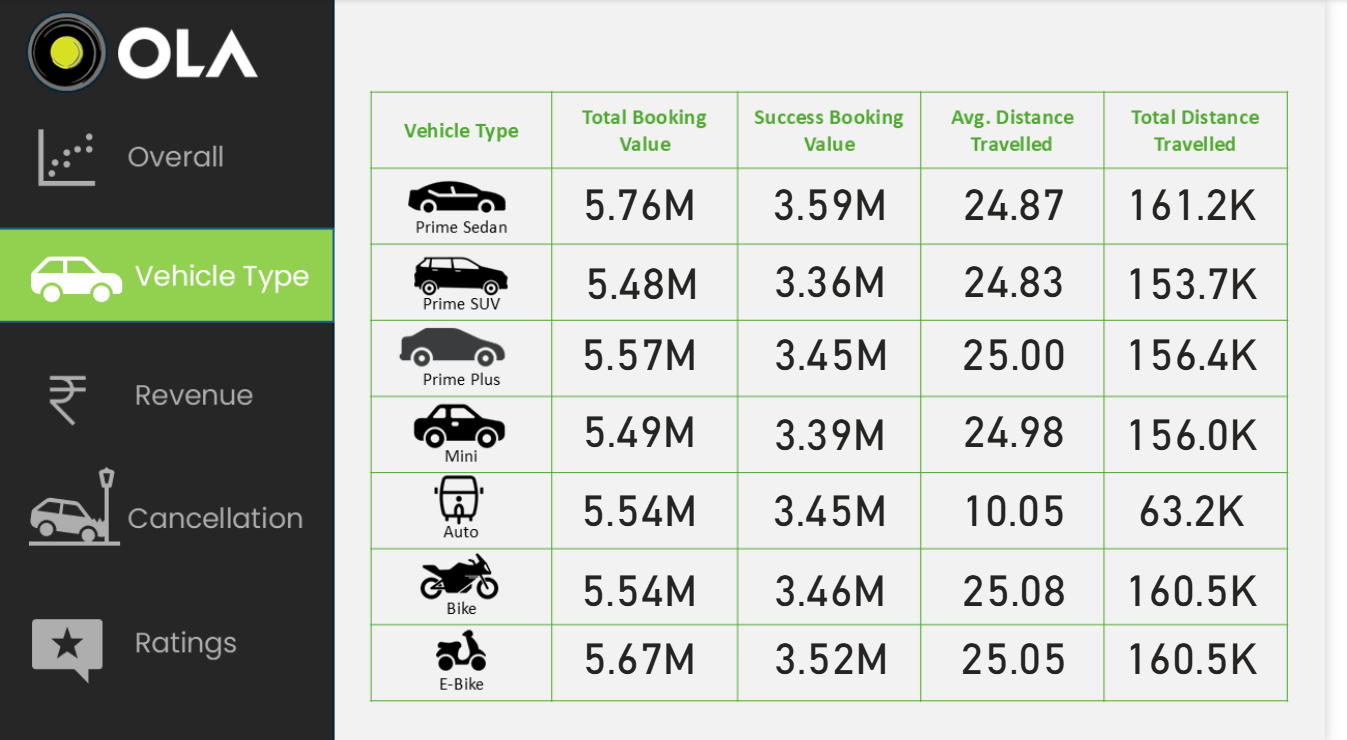

What the dashboard file says about the page in this screenshot:
{"tool":"powerbi","page":{"name":"Vechicle Type","canvas":[1280,720],"ordinal":1},"visuals":[{"type":"actionButton","box":[0,109.8,323.3,90.5],"z":0},{"type":"actionButton","box":[0,339,323.3,90.5],"z":1000},{"type":"actionButton","box":[0,447.6,323.3,90.5],"z":2000},{"type":"actionButton","box":[0,580.3,323.3,90.5],"z":3000},{"type":"card","fields":{"Values":["Sum(Bookings.Booking_Value)"]},"box":[543.4,155.1,149.6,76.8],"z":4000},{"type":"card","fields":{"Values":["Sum(Bookings.Booking_Value)"]},"box":[543.4,374.6,149.6,76.8],"z":5000},{"type":"card","fields":{"Values":["Sum(Bookings.Booking_Value)"]},"box":[543.4,451.5,149.6,76.8],"z":6000},{"type":"card","fields":{"Values":["Sum(Bookings.Booking_Value)"]},"box":[543.4,528.3,149.6,76.8],"z":7000},{"type":"card","fields":{"Values":["Sum(Bookings.Booking_Value)"]},"box":[543.4,594.2,149.6,76.8],"z":8000},{"type":"card","fields":{"Values":["Sum(Bookings.Booking_Value)"]},"box":[544.8,231.9,149.6,76.8],"z":9000},{"type":"card","fields":{"Values":["Sum(Bookings.Booking_Value)"]},"box":[543.4,300.5,149.6,76.8],"z":10000},{"type":"card","fields":{"Values":["Sum(Bookings.Booking_Value)"]},"box":[727.3,155.1,149.6,76.8],"z":11000},{"type":"card","fields":{"Values":["Sum(Bookings.Booking_Value)"]},"box":[727.3,230.5,149.6,76.8],"z":12000},{"type":"card","fields":{"Values":["Sum(Bookings.Booking_Value)"]},"box":[728.6,300.5,149.6,76.8],"z":13000},{"type":"card","fields":{"Values":["Sum(Bookings.Booking_Value)"]},"box":[727.3,377.4,149.6,76.8],"z":14000},{"type":"card","fields":{"Values":["Sum(Bookings.Booking_Value)"]},"box":[727.3,451.5,149.6,76.8],"z":15000},{"type":"card","fields":{"Values":["Sum(Bookings.Booking_Value)"]},"box":[727.3,528.3,149.6,76.8],"z":16000},{"type":"card","fields":{"Values":["Sum(Bookings.Booking_Value)"]},"box":[728.6,594.2,149.6,76.8],"z":17000},{"type":"card","fields":{"Values":["Avg(Bookings.Ride_Distance)"]},"box":[904.3,155.1,149.6,76.8],"z":18000},{"type":"card","fields":{"Values":["Avg(Bookings.Ride_Distance)"]},"box":[904.3,230.5,149.6,76.8],"z":19000},{"type":"card","fields":{"Values":["Avg(Bookings.Ride_Distance)"]},"box":[904.3,300.5,149.6,76.8],"z":20000},{"type":"card","fields":{"Values":["Avg(Bookings.Ride_Distance)"]},"box":[904.3,374.6,149.6,76.8],"z":21000},{"type":"card","fields":{"Values":["Avg(Bookings.Ride_Distance)"]},"box":[904.3,451.5,149.6,76.8],"z":22000},{"type":"card","fields":{"Values":["Avg(Bookings.Ride_Distance)"]},"box":[904.3,528.3,149.6,76.8],"z":23000},{"type":"card","fields":{"Values":["Avg(Bookings.Ride_Distance)"]},"box":[904.3,594.2,149.6,76.8],"z":24000},{"type":"card","fields":{"Values":["Sum(Bookings.Ride_Distance)"]},"box":[1075.8,155.1,149.6,76.8],"z":25000},{"type":"card","fields":{"Values":["Sum(Bookings.Ride_Distance)"]},"box":[1075.8,231.9,149.6,76.8],"z":26000},{"type":"card","fields":{"Values":["Sum(Bookings.Ride_Distance)"]},"box":[1075.8,300.5,149.6,76.8],"z":27000},{"type":"card","fields":{"Values":["Sum(Bookings.Ride_Distance)"]},"box":[1075.8,377.4,149.6,76.8],"z":28000},{"type":"card","fields":{"Values":["Sum(Bookings.Ride_Distance)"]},"box":[1075.8,451.5,149.6,76.8],"z":29000},{"type":"card","fields":{"Values":["Sum(Bookings.Ride_Distance)"]},"box":[1075.8,528.3,149.6,76.8],"z":30000},{"type":"card","fields":{"Values":["Sum(Bookings.Ride_Distance)"]},"box":[1075.8,594.2,149.6,76.8],"z":31000}]}

Visuals, with their boxes on the page's 1280x720 design canvas (x1, y1, x2, y2). These are canvas units, not pixel positions in the 1347x740 screenshot, which may show the page scaled, cropped or inside an application window:
actionButton: bbox=[0, 110, 323, 200]
actionButton: bbox=[0, 339, 323, 430]
actionButton: bbox=[0, 448, 323, 538]
actionButton: bbox=[0, 580, 323, 671]
card - Sum(Bookings.Booking_Value): bbox=[543, 155, 693, 232]
card - Sum(Bookings.Booking_Value): bbox=[543, 375, 693, 451]
card - Sum(Bookings.Booking_Value): bbox=[543, 452, 693, 528]
card - Sum(Bookings.Booking_Value): bbox=[543, 528, 693, 605]
card - Sum(Bookings.Booking_Value): bbox=[543, 594, 693, 671]
card - Sum(Bookings.Booking_Value): bbox=[545, 232, 694, 309]
card - Sum(Bookings.Booking_Value): bbox=[543, 300, 693, 377]
card - Sum(Bookings.Booking_Value): bbox=[727, 155, 877, 232]
card - Sum(Bookings.Booking_Value): bbox=[727, 230, 877, 307]
card - Sum(Bookings.Booking_Value): bbox=[729, 300, 878, 377]
card - Sum(Bookings.Booking_Value): bbox=[727, 377, 877, 454]
card - Sum(Bookings.Booking_Value): bbox=[727, 452, 877, 528]
card - Sum(Bookings.Booking_Value): bbox=[727, 528, 877, 605]
card - Sum(Bookings.Booking_Value): bbox=[729, 594, 878, 671]
card - Avg(Bookings.Ride_Distance): bbox=[904, 155, 1054, 232]
card - Avg(Bookings.Ride_Distance): bbox=[904, 230, 1054, 307]
card - Avg(Bookings.Ride_Distance): bbox=[904, 300, 1054, 377]
card - Avg(Bookings.Ride_Distance): bbox=[904, 375, 1054, 451]
card - Avg(Bookings.Ride_Distance): bbox=[904, 452, 1054, 528]
card - Avg(Bookings.Ride_Distance): bbox=[904, 528, 1054, 605]
card - Avg(Bookings.Ride_Distance): bbox=[904, 594, 1054, 671]
card - Sum(Bookings.Ride_Distance): bbox=[1076, 155, 1225, 232]
card - Sum(Bookings.Ride_Distance): bbox=[1076, 232, 1225, 309]
card - Sum(Bookings.Ride_Distance): bbox=[1076, 300, 1225, 377]
card - Sum(Bookings.Ride_Distance): bbox=[1076, 377, 1225, 454]
card - Sum(Bookings.Ride_Distance): bbox=[1076, 452, 1225, 528]
card - Sum(Bookings.Ride_Distance): bbox=[1076, 528, 1225, 605]
card - Sum(Bookings.Ride_Distance): bbox=[1076, 594, 1225, 671]
